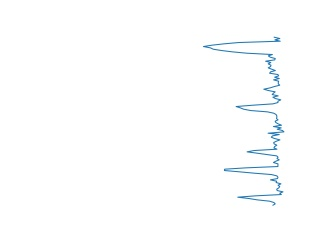distalBar: (200, 31, 286, 86)
interdistributaryEstuary: (233, 85, 287, 141)
underwaterNaturalLevee: (220, 142, 288, 207)
